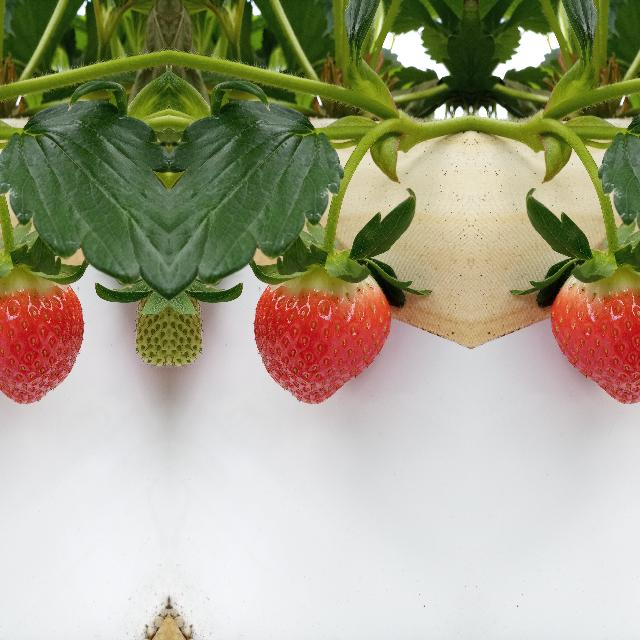Health_100: (253, 266, 392, 404), (549, 265, 640, 404), (0, 265, 83, 404)
